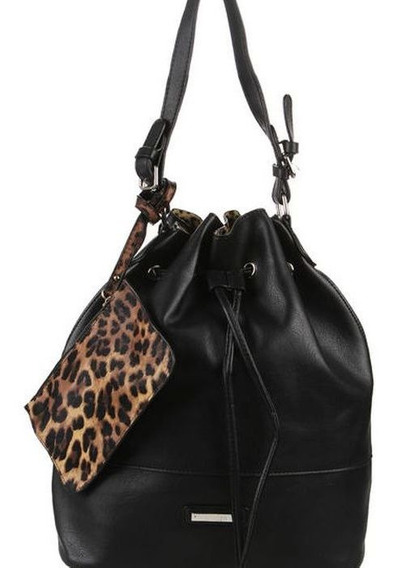cartera: (28, 1, 370, 568)
